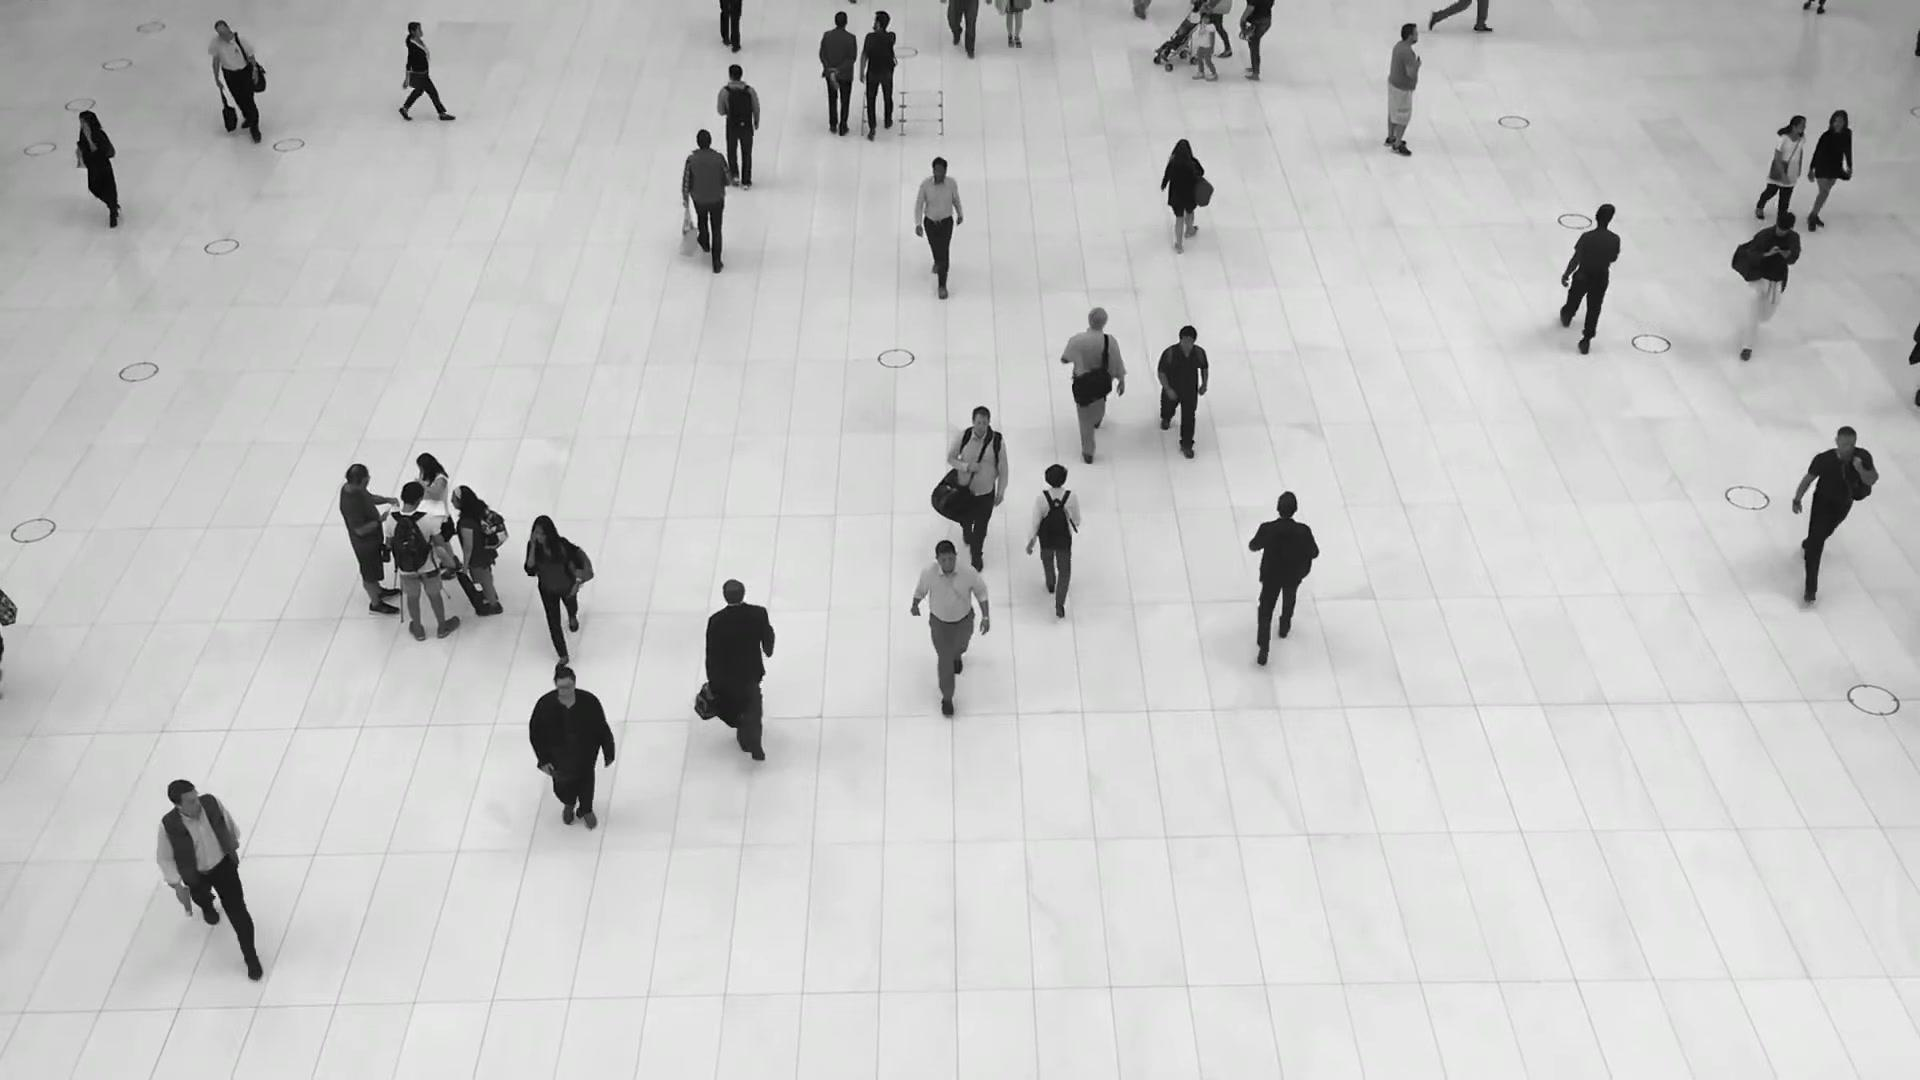person: (156, 775, 256, 970), (1790, 424, 1878, 604), (527, 665, 613, 841), (911, 538, 990, 711), (705, 579, 777, 764), (1245, 490, 1319, 654), (383, 482, 458, 642), (523, 512, 593, 665), (946, 404, 1009, 569), (1731, 210, 1801, 358), (1061, 308, 1125, 467), (339, 464, 400, 616), (1560, 204, 1620, 358), (1027, 462, 1081, 610), (680, 131, 732, 277), (914, 154, 965, 295), (1155, 323, 1209, 453), (450, 485, 503, 616), (207, 19, 262, 142), (1802, 110, 1851, 237), (1162, 140, 1213, 259), (715, 66, 761, 195), (415, 452, 459, 580), (75, 109, 121, 229), (1755, 113, 1807, 217), (1383, 22, 1421, 157), (816, 14, 854, 142), (399, 20, 447, 122), (857, 13, 894, 140), (1191, 14, 1219, 82)
